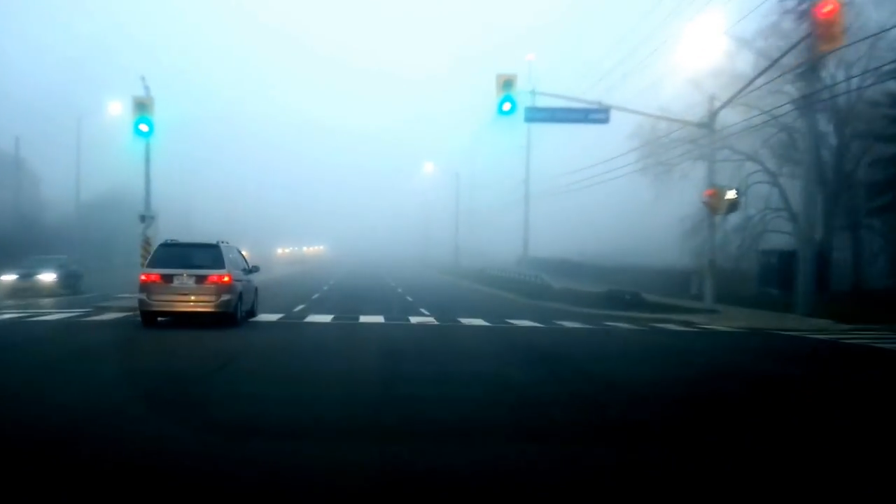car: (135, 237, 260, 325), (1, 254, 86, 299)
